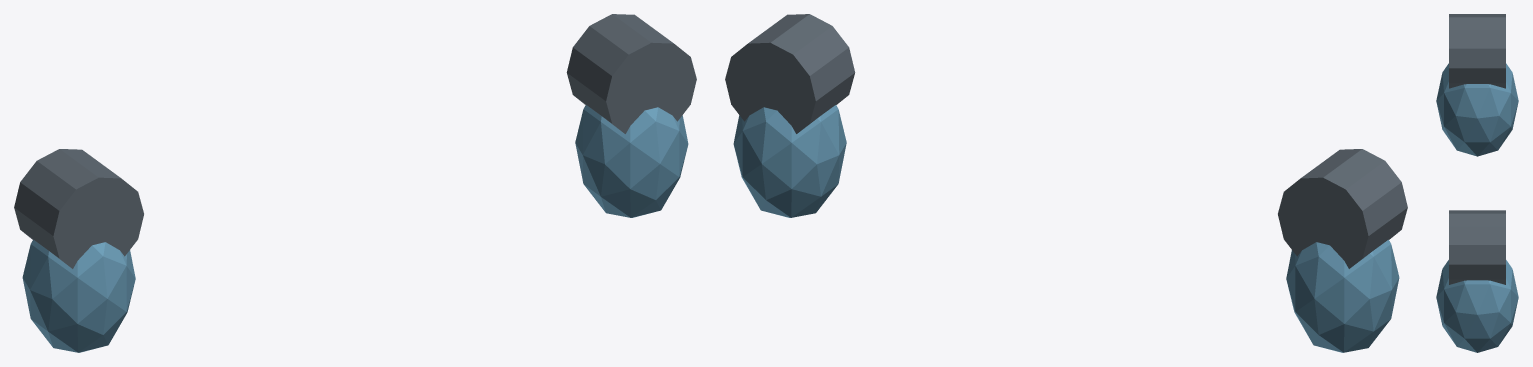
Rendered from gloves_lod0.glb.
3 renders of one model, left to right at view 1: azimuth 30°, elevation 25°; view 2: azimuth 150°, elevation 25°; view 3: azimuth 270°, elevation 25°, orthographic. The views are drawn at different scales.
Visible parts, largest first — view 1: part_3, part_1, part_2, part_0; view 2: part_3, part_1, part_2, part_0; view 3: part_2, part_0, part_3, part_1.
Boxes of the visible parts, x1=… form: part_3: x1=566, y1=14, x2=696, y2=133; part_1: x1=14, y1=149, x2=143, y2=268; part_2: x1=575, y1=105, x2=688, y2=217; part_0: x1=22, y1=239, x2=135, y2=352; part_3: x1=725, y1=14, x2=855, y2=133; part_1: x1=1278, y1=149, x2=1407, y2=268; part_2: x1=733, y1=105, x2=846, y2=217; part_0: x1=1286, y1=239, x2=1399, y2=352; part_2: x1=1436, y1=260, x2=1518, y2=352; part_0: x1=1436, y1=63, x2=1518, y2=156; part_3: x1=1449, y1=210, x2=1505, y2=284; part_1: x1=1449, y1=14, x2=1505, y2=88.
Size of the model in its own units: 1.72 by 0.479 by 0.2592.
